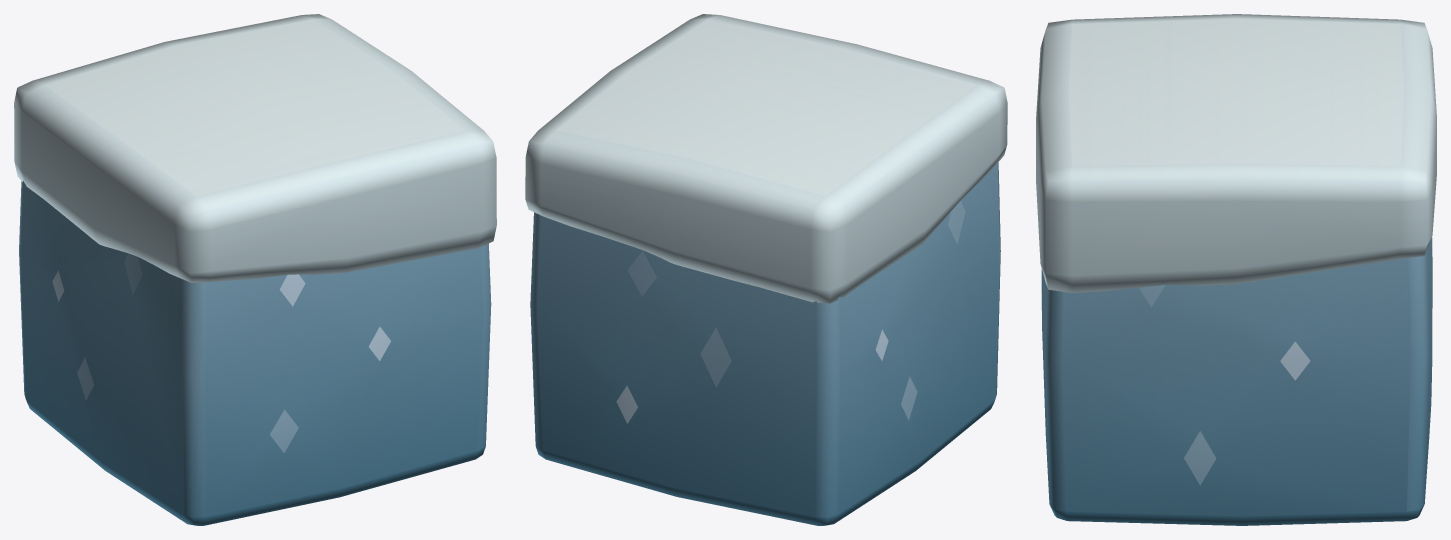
The model's file is icecube_3.fbx.
3 renders of one model, left to right at view 1: azimuth 30°, elevation 25°; view 2: azimuth 150°, elevation 25°; view 3: azimuth 270°, elevation 25°, orthographic. The views are drawn at different scales.
Parts seen in each view (by area): view 1: icecube_3; view 2: icecube_3; view 3: icecube_3.
Part boxes in pixels (left/top/right/bottom): icecube_3: left=14, top=14, right=496, bottom=525; icecube_3: left=525, top=14, right=1007, bottom=525; icecube_3: left=1036, top=14, right=1436, bottom=525.
Bounding box in the file's own units: 1114 × 1144 × 1113.
1 material, 1 textured.
